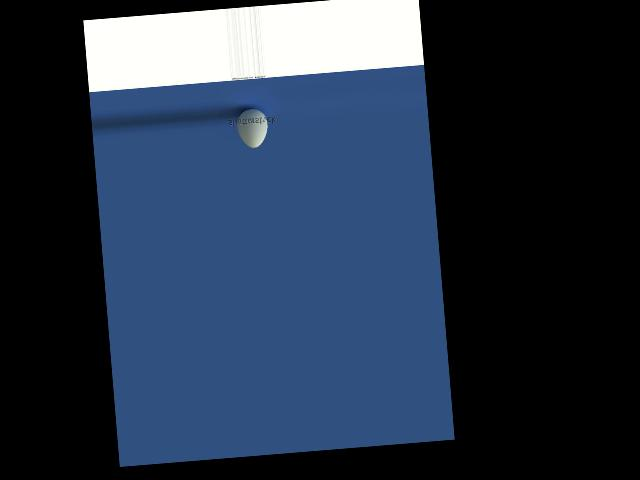egg: (236, 107, 269, 149)
